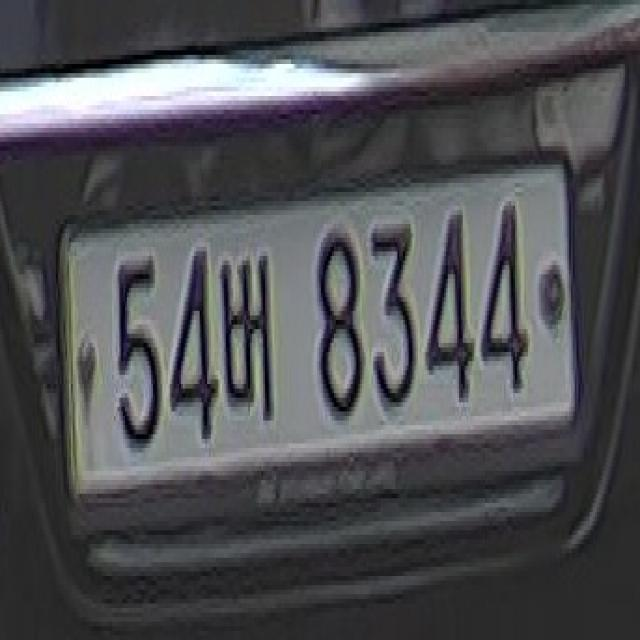3: (369, 206, 420, 430)
4: (166, 215, 220, 466), (426, 188, 484, 420), (484, 201, 540, 421)
5: (110, 233, 166, 462)
8: (317, 201, 366, 448)
beo: (220, 233, 291, 434)
license_plate: (56, 137, 588, 576)
